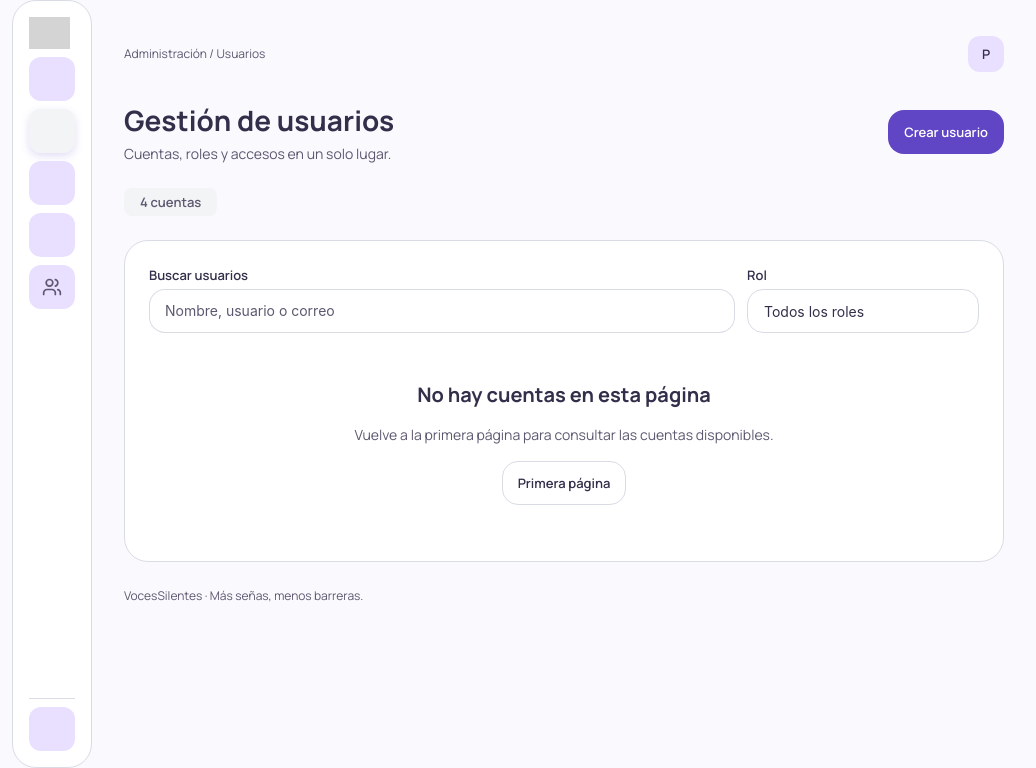
Test: página fuera de rango: conserva el total real y permite volver a la primera sin afirmar vacío global
This screenshot has width=1036, height=768.
Expected: the text "No hay cuentas en esta página" is shown, [417,381,711,409]
Click the button "Primera página": {"x": 564, "y": 483} [502,461,626,505]
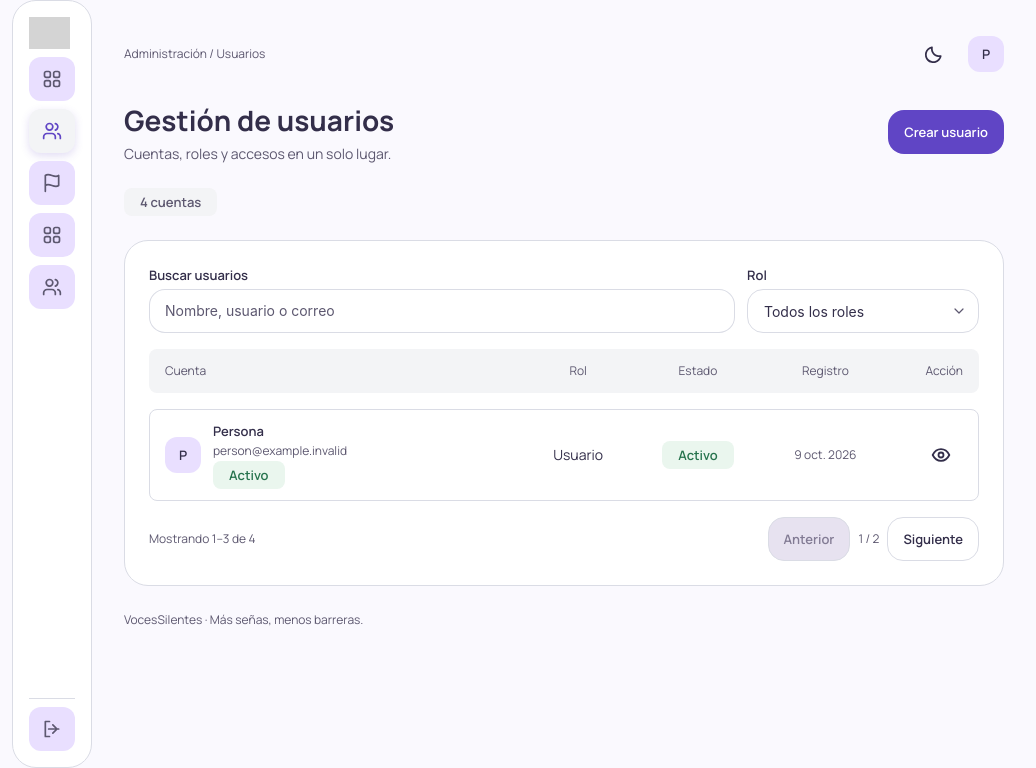
Result: the text "Persona" is shown at [213,422,264,440]
